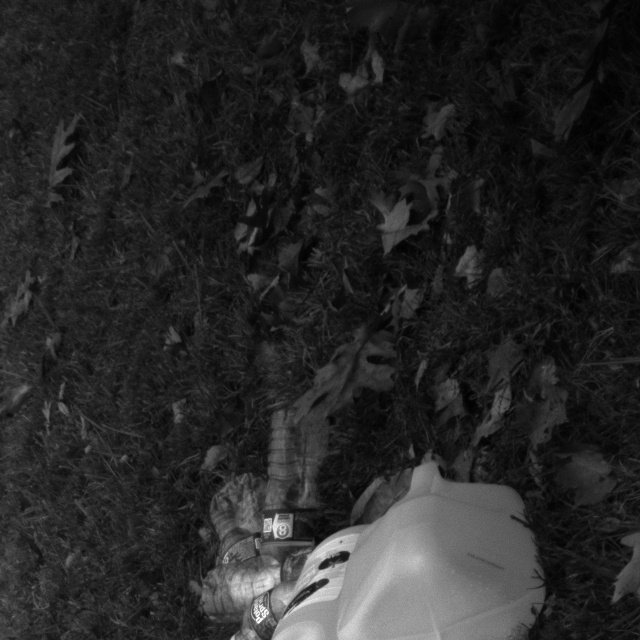bottle: (249, 406, 330, 597)
can: (335, 467, 544, 640), (243, 525, 385, 640)
